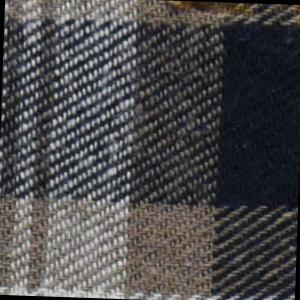Oil Stain: (164, 1, 300, 32)
